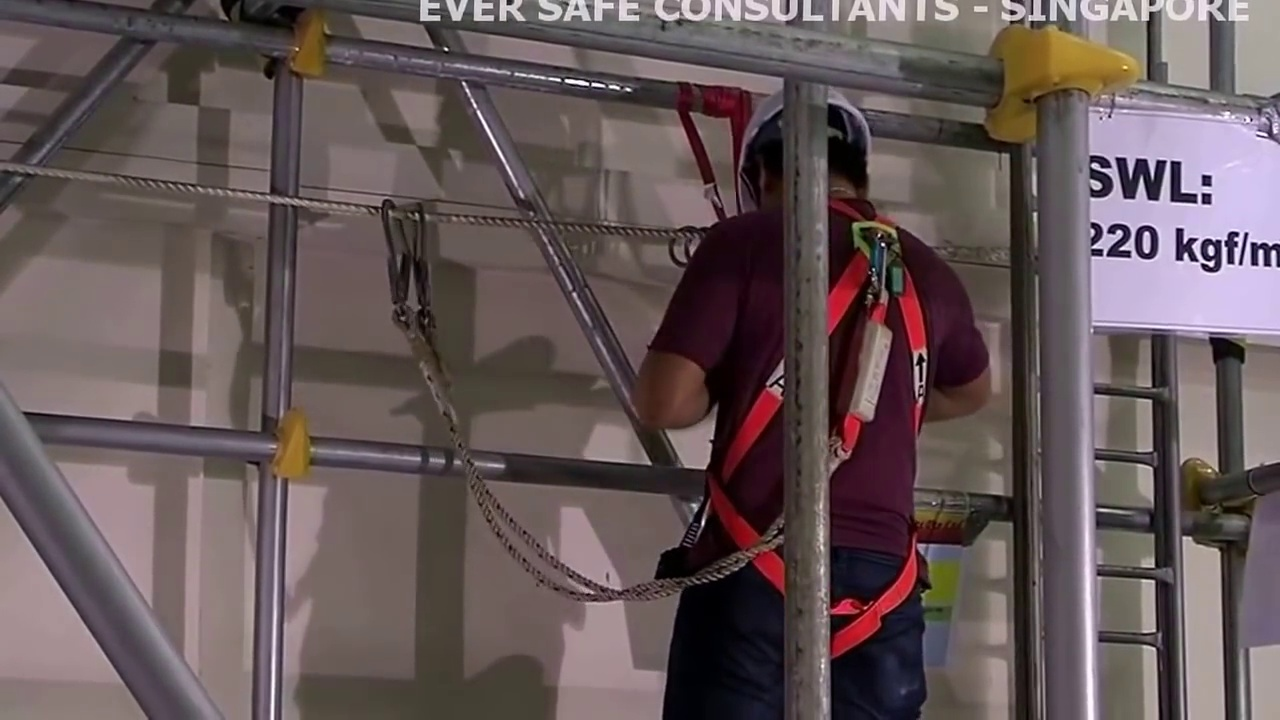harness: (744, 230, 929, 625)
helmet: (744, 94, 871, 139)
hook: (370, 189, 441, 321)
leash: (443, 413, 680, 609)
